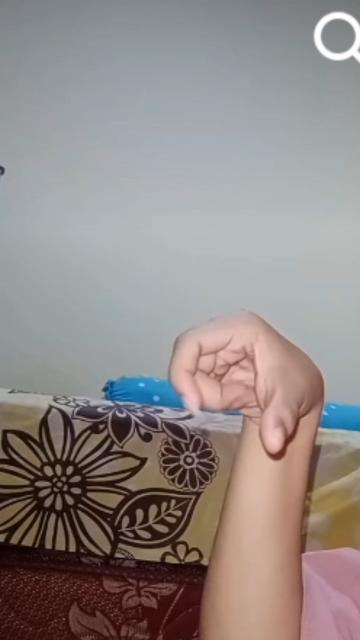Q: (164, 304, 328, 462)
